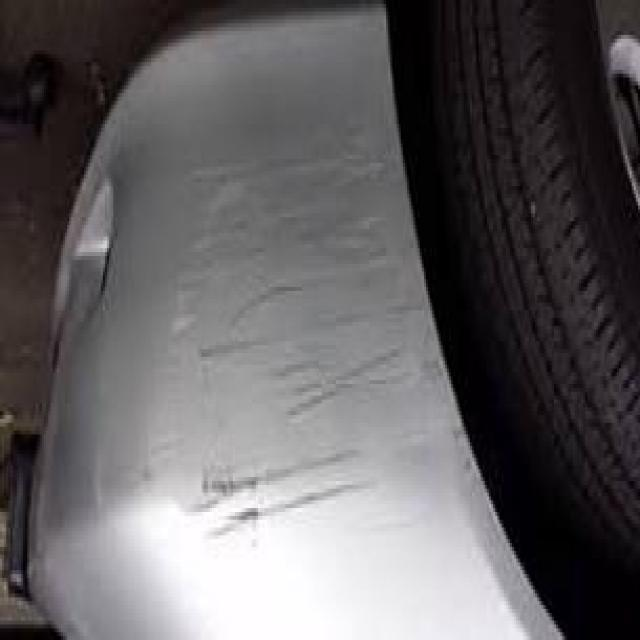scratch: (135, 149, 429, 514)
